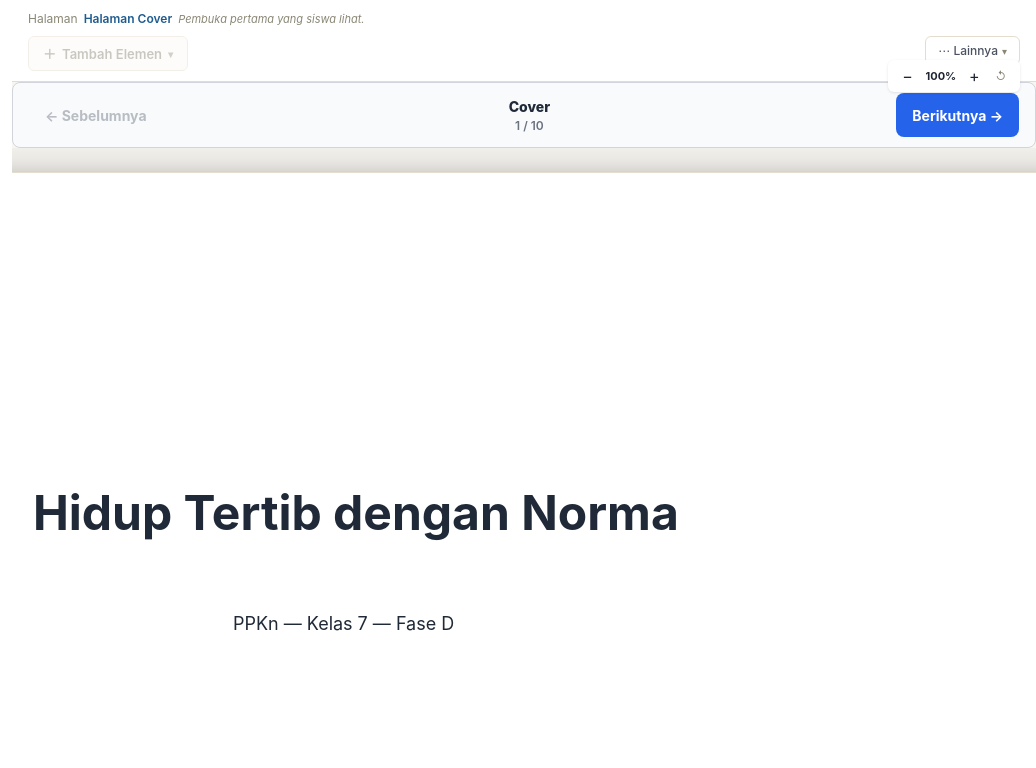
Test case: UX-06: Zoom & Pan Canvas › 8. Clicking zoom reset returns to 100%
Click the button with test id "zoom-in" at (974, 76), box [963,64,986,88]
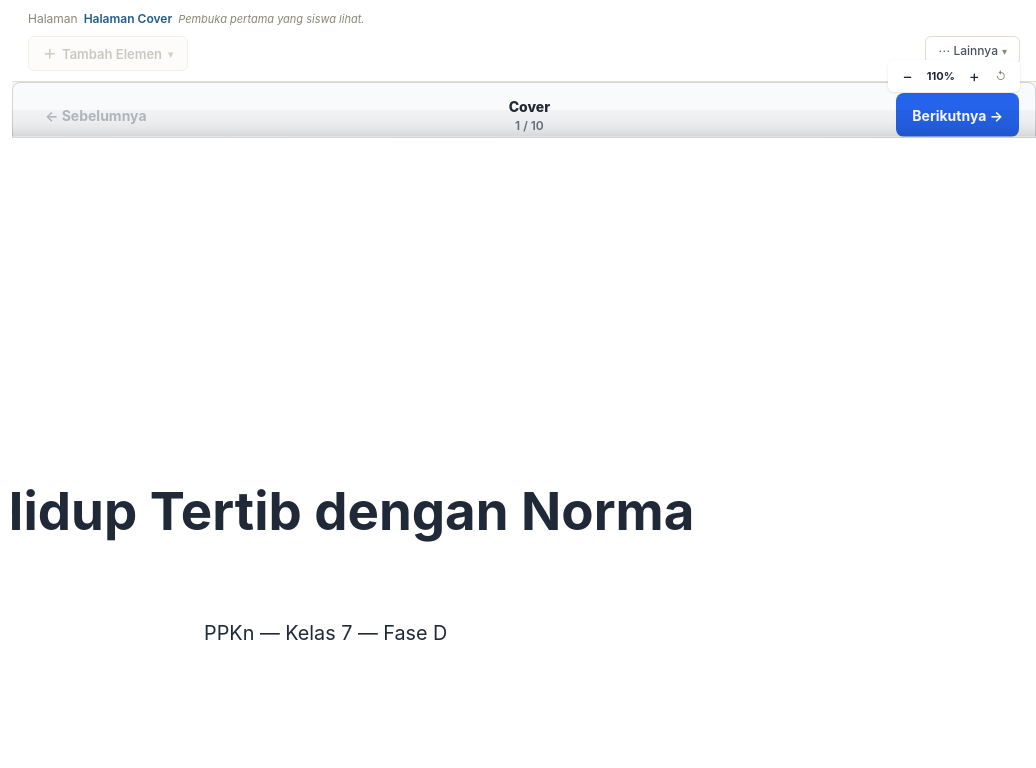
Click the button with test id "zoom-in" at (974, 76), box [963,64,986,88]
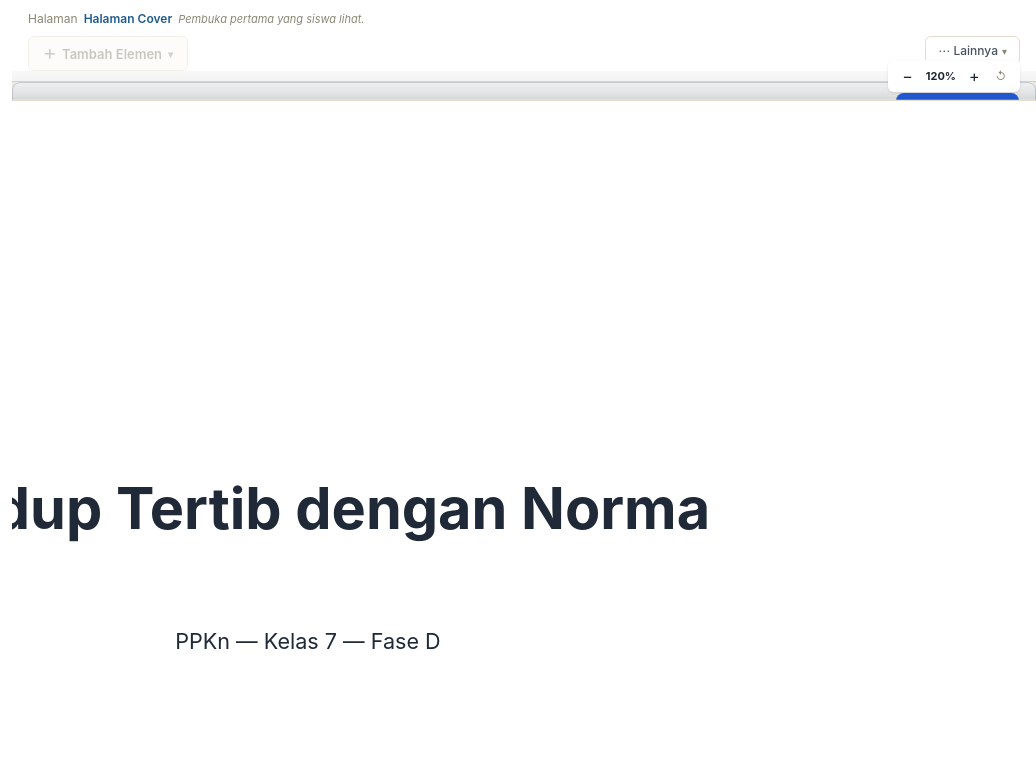
Click the button with test id "zoom-reset" at (1001, 76), box [990,67,1012,85]
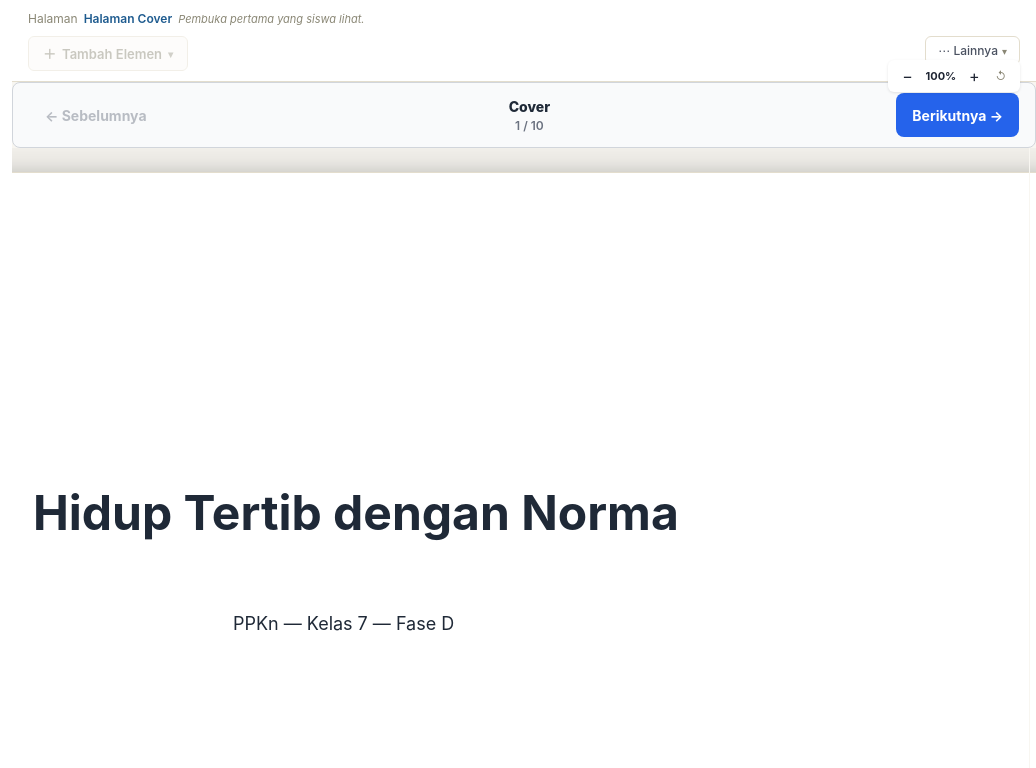
Expected: the text with test id "zoom-level" reads "100%", [923,68,959,84]
